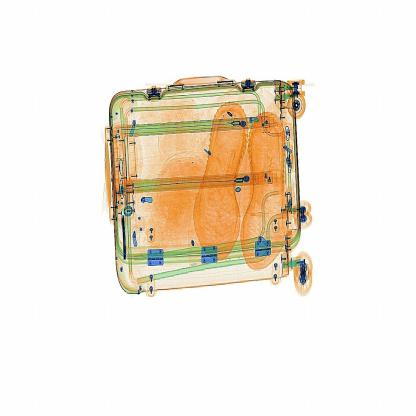knife: (116, 206, 138, 276)
